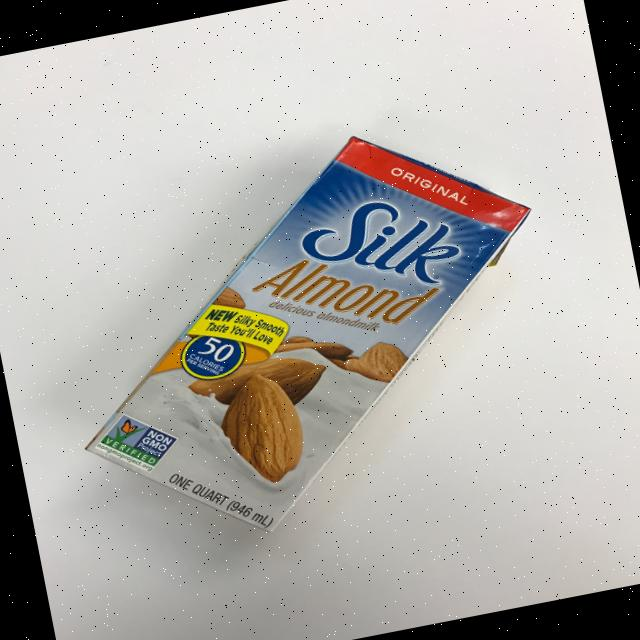paper: (35, 105, 582, 564)
